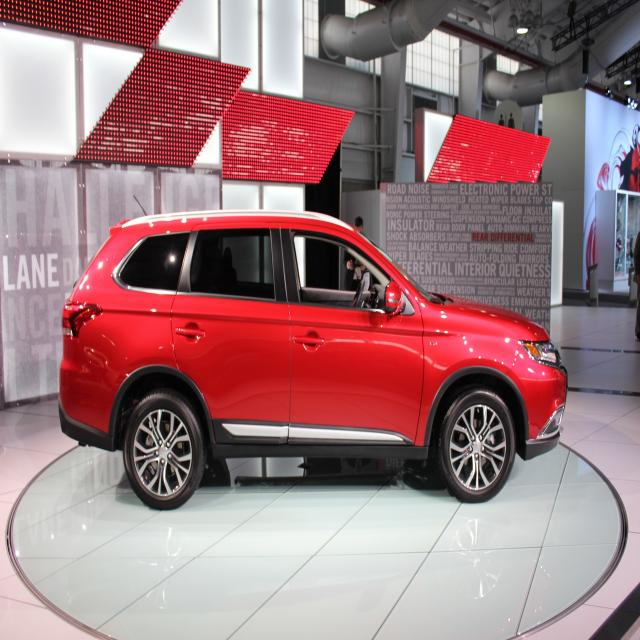light_vehicle: (57, 209, 569, 509)
